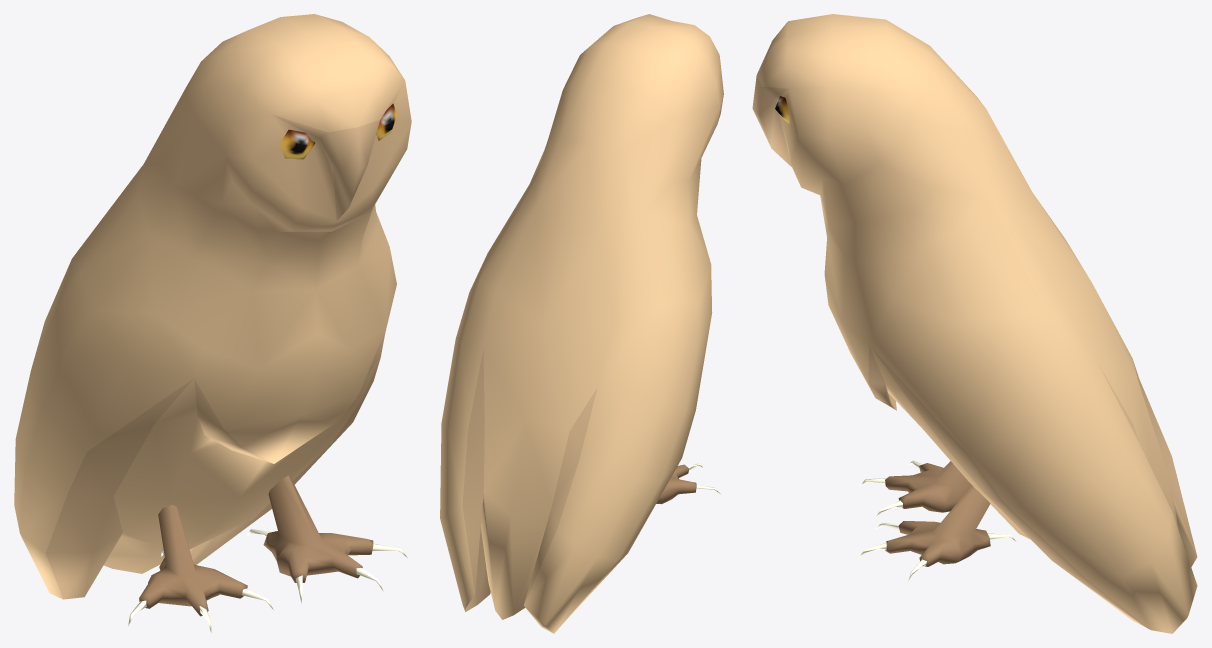
The model's file is Owl02.glb.
3 renders of one model, left to right at view 1: azimuth 30°, elevation 25°; view 2: azimuth 150°, elevation 25°; view 3: azimuth 270°, elevation 25°, orthographic. The views are drawn at different scales.
Visible parts, largest first — view 1: Owl02; view 2: Owl02; view 3: Owl02.
Part boxes in pixels (box(x1,y1,x2,y2)): Owl02: box(14, 14, 411, 632); Owl02: box(440, 14, 723, 633); Owl02: box(752, 14, 1197, 633).
Size of what is drawn, in the model's own units: 0.3547 by 0.739 by 0.5117.
1 material, 1 textured.
